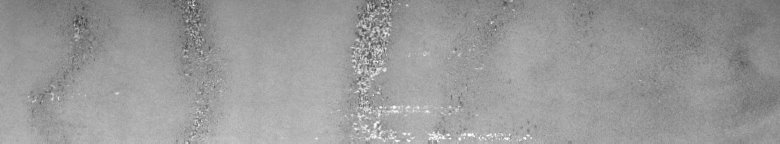hc: (345, 4, 593, 136)
